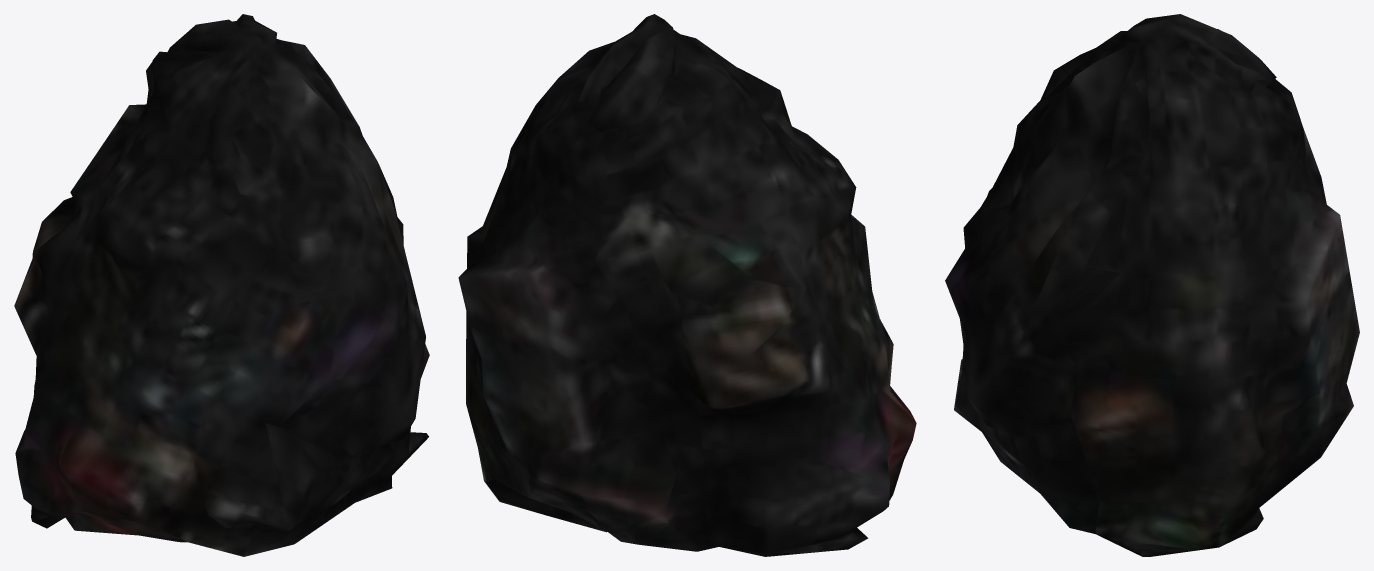
Rendered from trashbag.glb.
3 renders of one model, left to right at view 1: azimuth 30°, elevation 25°; view 2: azimuth 150°, elevation 25°; view 3: azimuth 270°, elevation 25°, orthographic. The views are drawn at different scales.
Parts seen in each view (by area): view 1: trashbag; view 2: trashbag; view 3: trashbag.
Part boxes in pixels (left/top/right/bottom): trashbag: left=14, top=14, right=429, bottom=556; trashbag: left=458, top=14, right=916, bottom=556; trashbag: left=945, top=14, right=1359, bottom=556.
Size of the model in its own units: 0.5265 by 0.5742 by 0.4659.
Materials: 1 (1 with a texture image).
